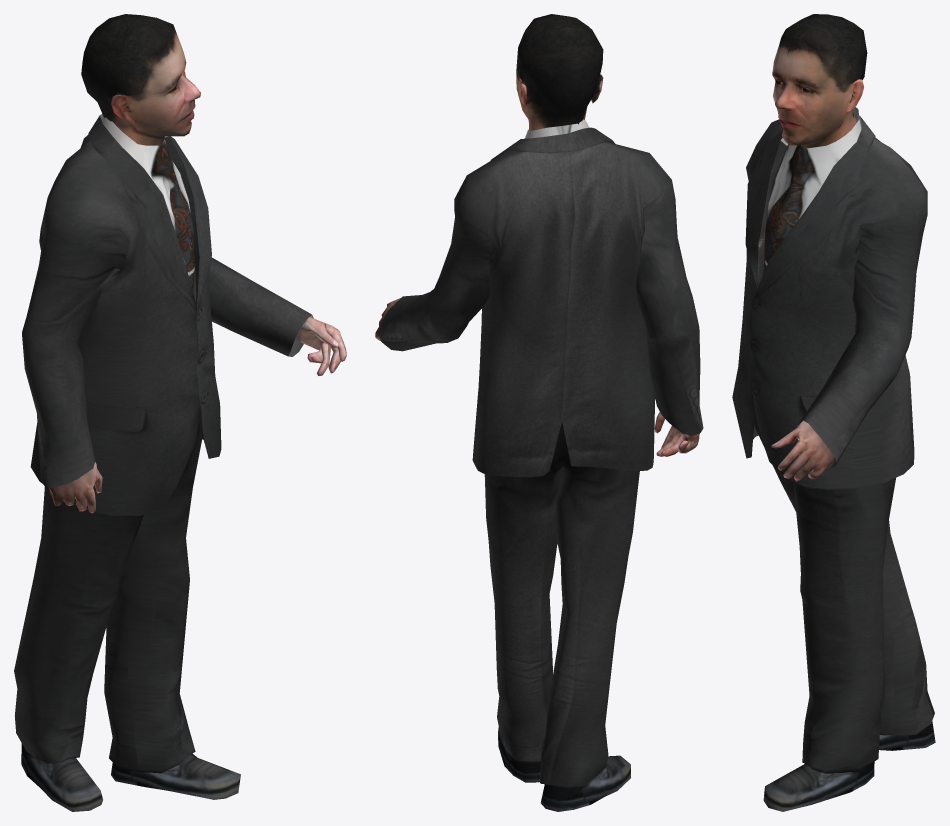
3 views of the same model, side by side, from view 1: azimuth 30°, elevation 25°; view 2: azimuth 150°, elevation 25°; view 3: azimuth 270°, elevation 25° (orthographic). The views are drawn at different scales.
Visible parts, largest first — view 1: BMan0010; view 2: BMan0010; view 3: BMan0010.
Boxes of the visible parts, box(x1,y1,x2,y2) form: BMan0010: box(14, 14, 346, 811); BMan0010: box(375, 14, 703, 811); BMan0010: box(732, 14, 935, 811).
Size of the model in its own units: 74.72 by 173 by 42.4.
